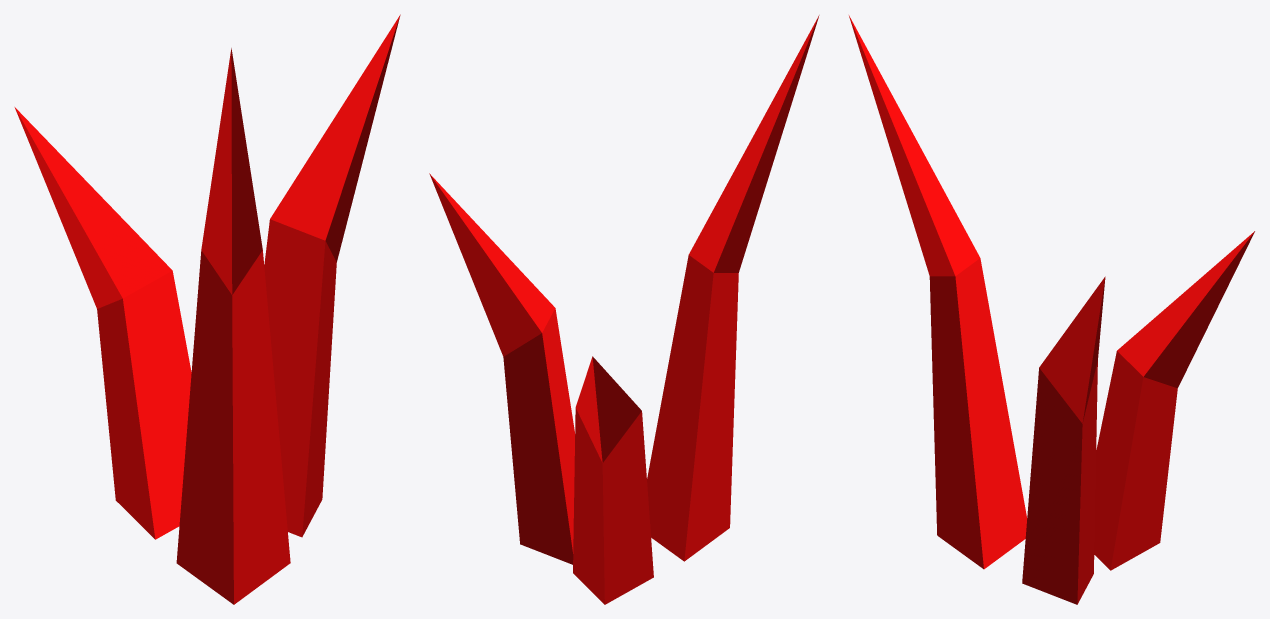
The model's file is grass2.fbx.
The picture shows the model from 3 angles, left to right: view 1: azimuth 30°, elevation 25°; view 2: azimuth 150°, elevation 25°; view 3: azimuth 270°, elevation 25°; orthographic projection. The views are drawn at different scales.
Visible parts, largest first — view 1: grass2; view 2: grass2; view 3: grass2.
Boxes of the visible parts, x1,y1,x2,y2 form: grass2: (14, 14, 400, 604); grass2: (429, 15, 819, 604); grass2: (849, 15, 1254, 604).
Size of the model in its own units: 0.4444 by 0.7943 by 0.5875.
